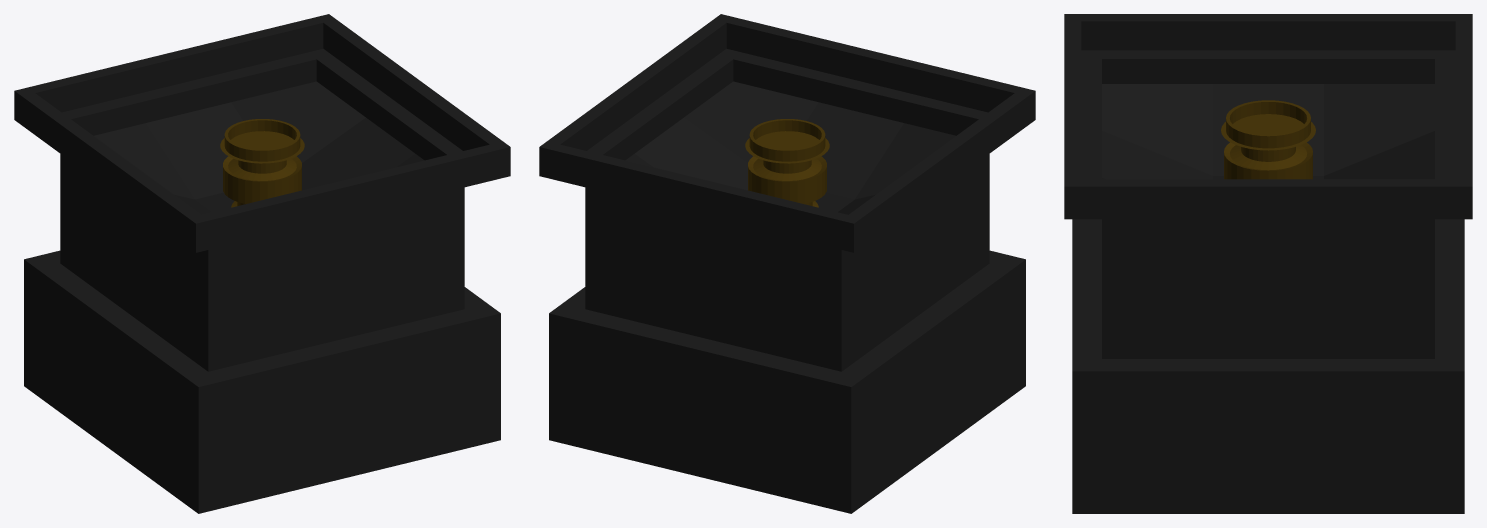
File: skin_3_1.fbx
3 views of the same model, side by side, from view 1: azimuth 30°, elevation 25°; view 2: azimuth 150°, elevation 25°; view 3: azimuth 270°, elevation 25° (orthographic). The views are drawn at different scales.
Parts seen in each view (by area): view 1: Cube; view 2: Cube; view 3: Cube.
Boxes of the visible parts, x1,y1,x2,y2 form: Cube: (14,14,510,513); Cube: (539,14,1035,513); Cube: (1064,14,1472,513).
Bounding box in the file's own units: 245 × 219 × 245.
